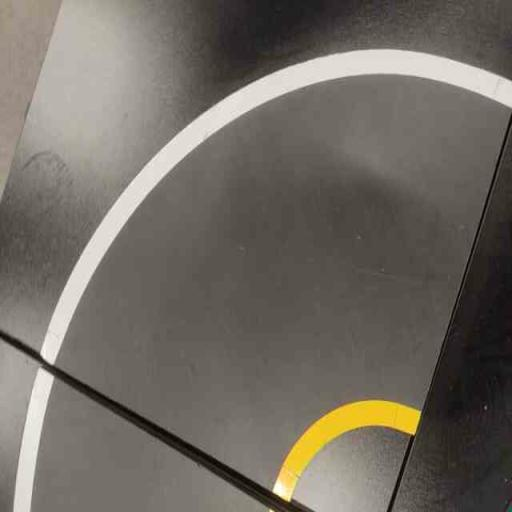left: (33, 4, 511, 503)
